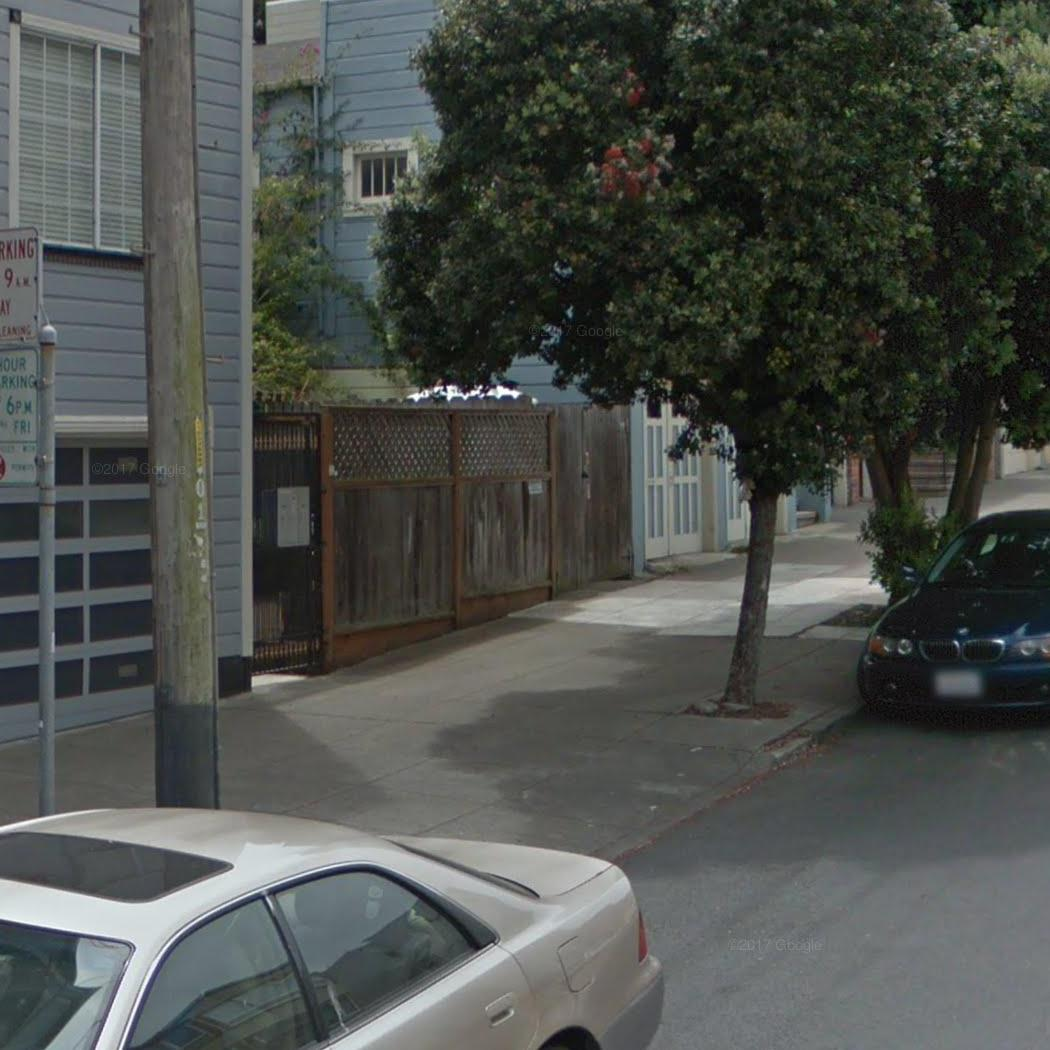2 Hour Parking: (1, 345, 41, 481)
No Parking: (0, 224, 45, 339)
